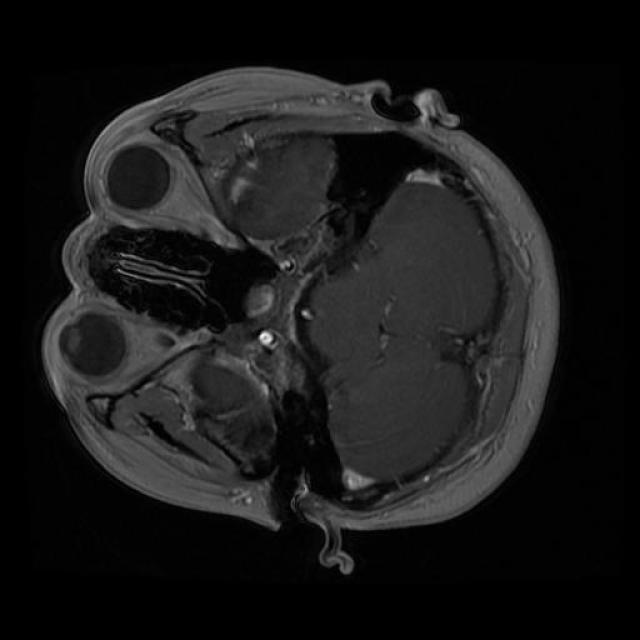Pituitary: (244, 284, 274, 317)
